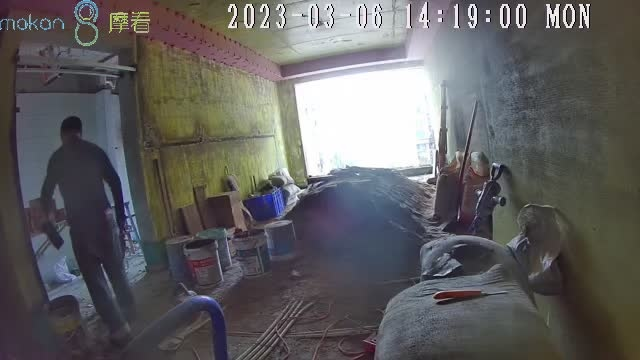people: (40, 115, 131, 343)
window: (289, 62, 436, 175)
